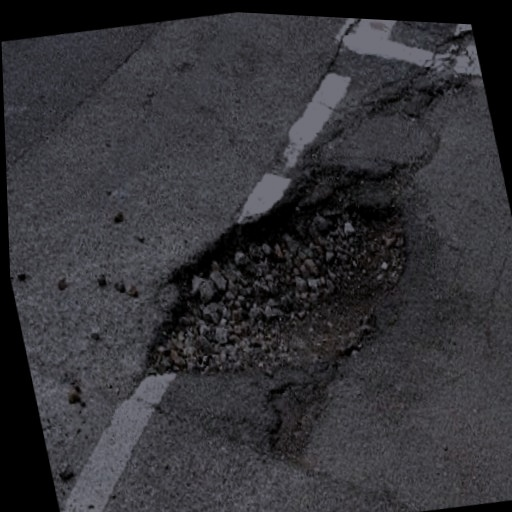pothole: (103, 148, 436, 409), (252, 371, 333, 472), (363, 60, 471, 130)
